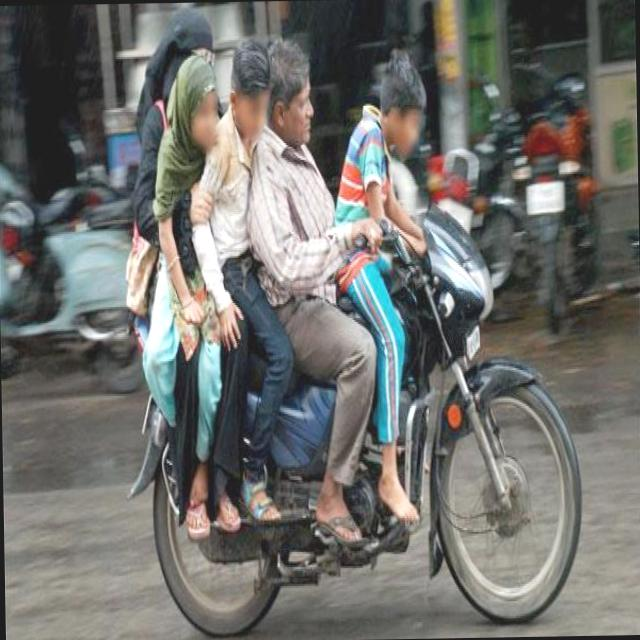motorcycle: (128, 203, 590, 640)
person: (323, 49, 437, 508), (126, 1, 237, 448), (200, 28, 292, 542), (240, 27, 341, 420), (144, 56, 227, 462)
rider_region: (117, 16, 585, 640)
